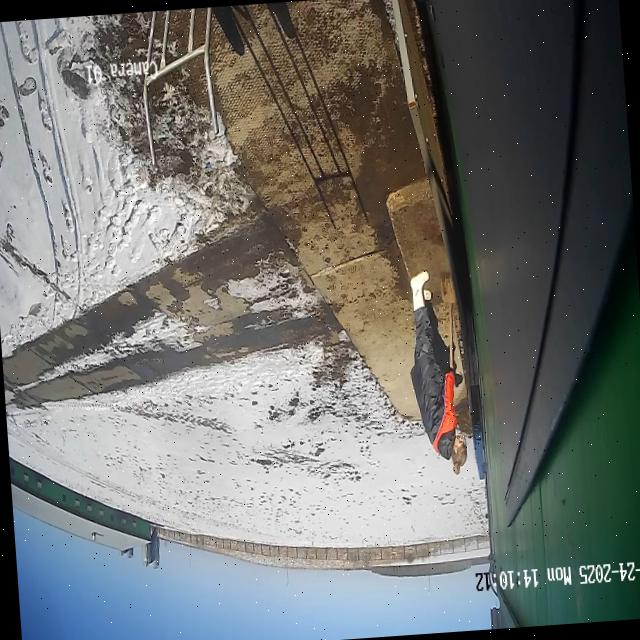Red uniform: (402, 265, 471, 476)
